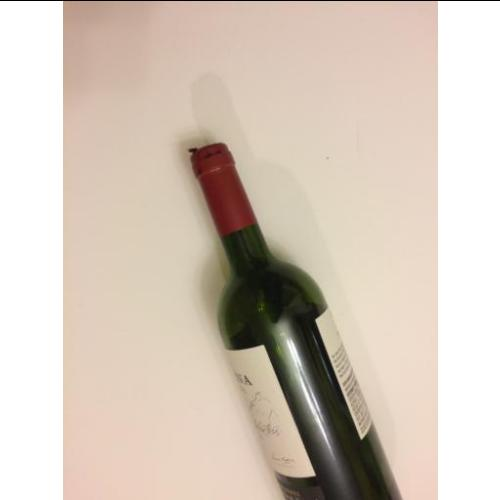glass: (191, 144, 403, 496)
